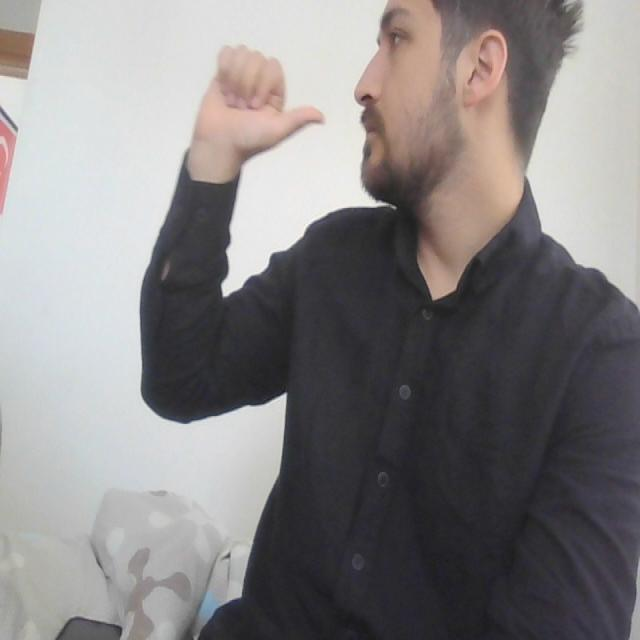icmek: (153, 42, 386, 172)
